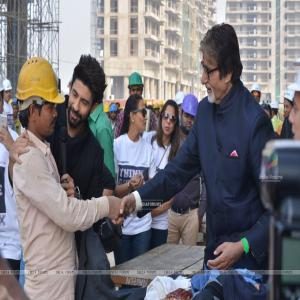blue: (182, 94, 199, 131), (12, 100, 19, 118), (111, 105, 118, 121)
none: (200, 21, 242, 102), (68, 58, 102, 126), (125, 95, 148, 136), (161, 100, 180, 138), (117, 111, 121, 121)
white: (284, 92, 294, 117), (251, 84, 262, 105), (176, 91, 186, 114), (4, 81, 13, 103), (270, 100, 280, 118)
yellow: (154, 104, 160, 117), (105, 106, 111, 118), (116, 102, 121, 110)
